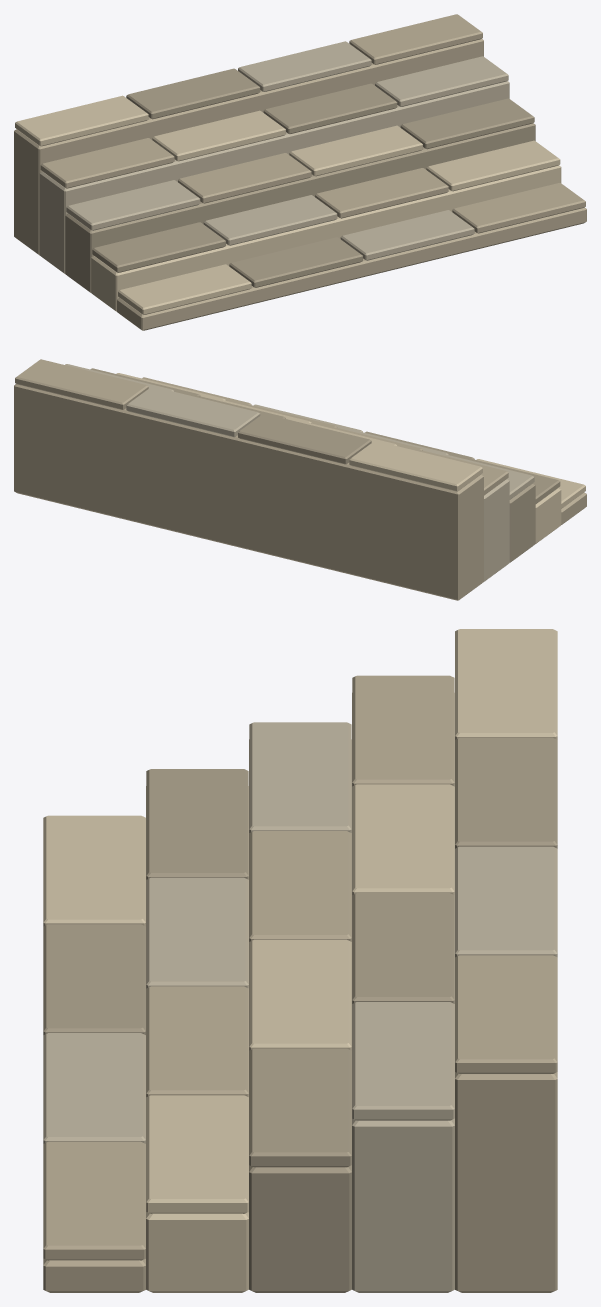
The model's file is Stair_Wide_4x2.fbx.
3 renders of one model, top to bottom at view 1: azimuth 30°, elevation 25°; view 2: azimuth 150°, elevation 25°; view 3: azimuth 270°, elevation 25°, orthographic. The views are drawn at different scales.
Visible parts, largest first — view 1: Stair_Wide_4x2; view 2: Stair_Wide_4x2; view 3: Stair_Wide_4x2.
Part boxes in pixels (x1,y1,x2,y2): Stair_Wide_4x2: (14,14,586,330); Stair_Wide_4x2: (14,359,586,600); Stair_Wide_4x2: (43,629,557,1292).
Bounding box in the file's own units: 4 × 1 × 2.
